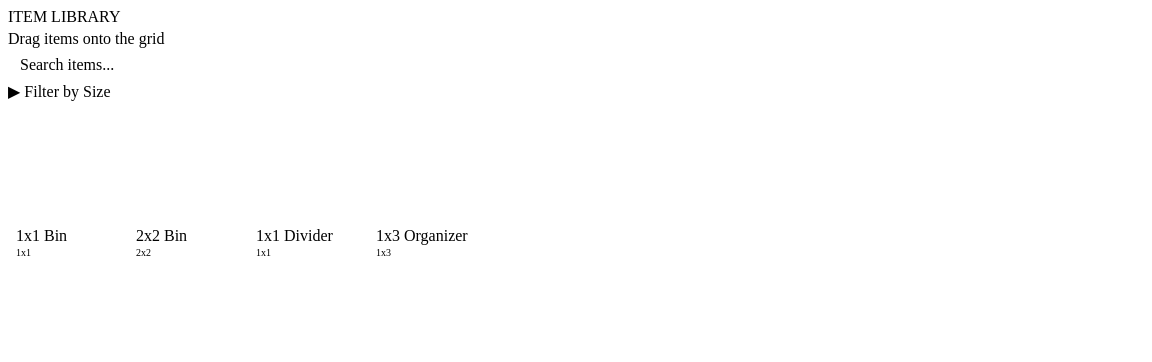
Test: ItemLibrary › Dimension Filtering › should show active indicator when filters are applied
Expected: the text "Filter by Size" does not show "●"
Click the button "▶ Filter by Size".
click(65, 92)  # box [8,82,1144,101]
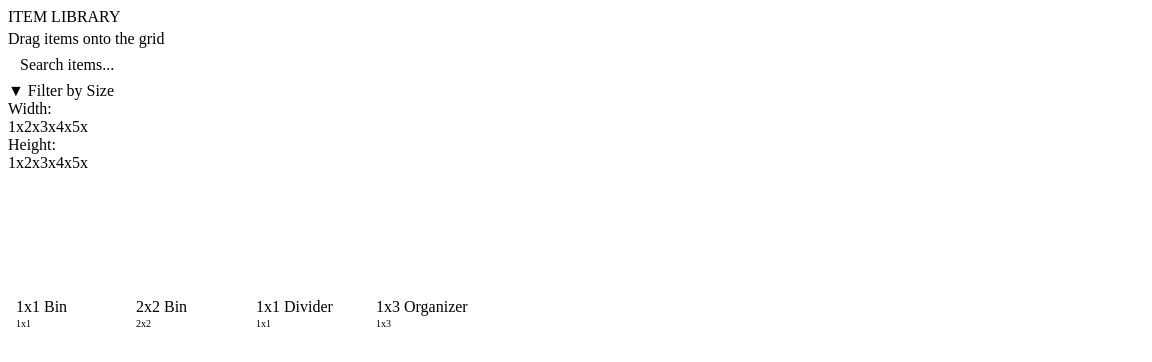
Click the button "1x" below "Width:".
click(16, 127)  # box [8,118,24,136]
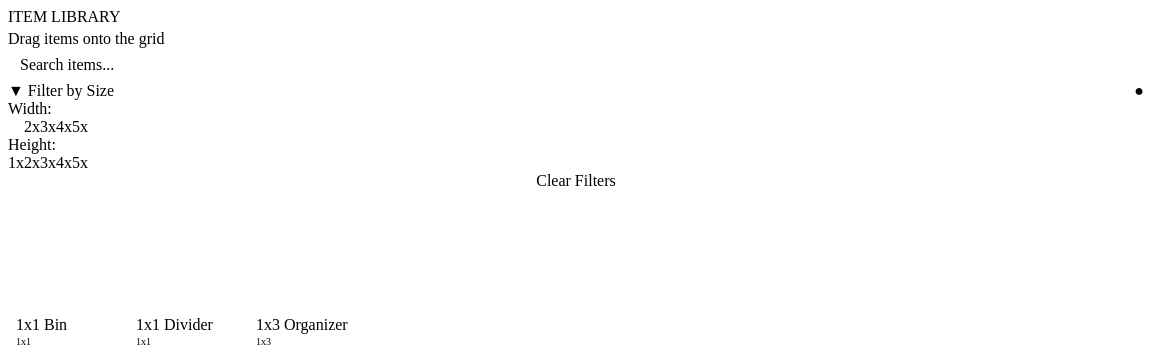
Expected: the button "▼ Filter by Size ●" is shown, [8,82,1144,100]
